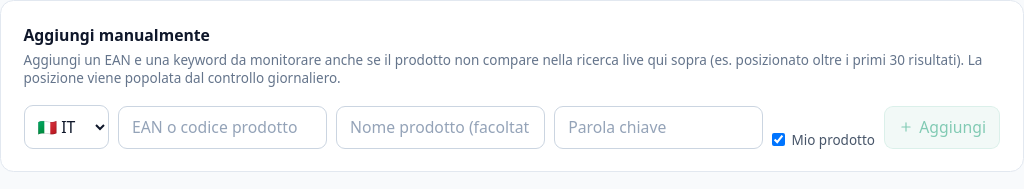
it: RedcareAddKeywordForm › disables the submit button until both EAN and keyword are filled
Expected: the button "Aggiungi" is disabled, [884,106,1000,148]
In the field with placeholder "EAN o codice prodotto": (222, 127) [118,106,327,148], type "123"
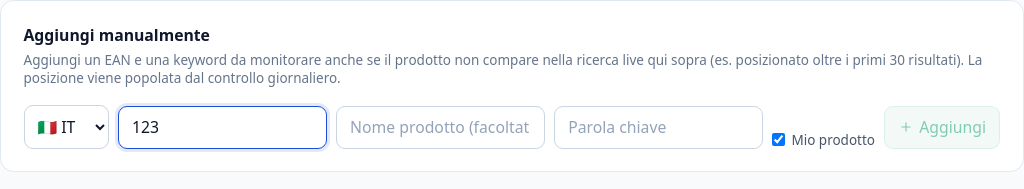
Expected: the button "Aggiungi" is disabled, [884,106,1000,148]
In the field with placeholder "Parola chiave": (658, 127) [554,106,763,148], type "keyword"
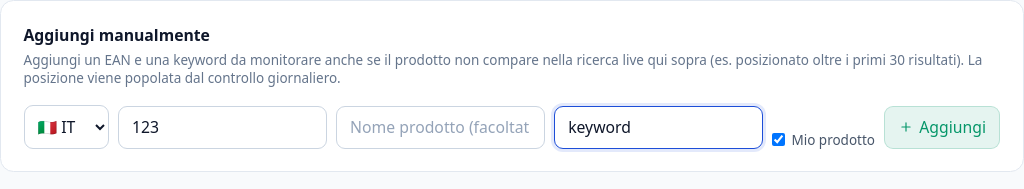
Result: the button "Aggiungi" is enabled at [884,106,1000,148]
